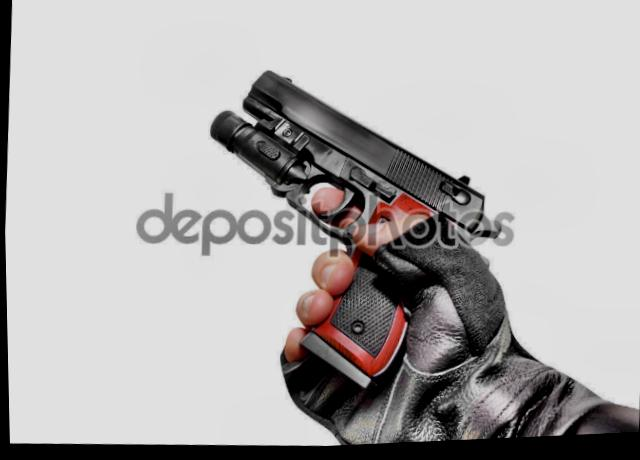pistol: (195, 42, 499, 400)
